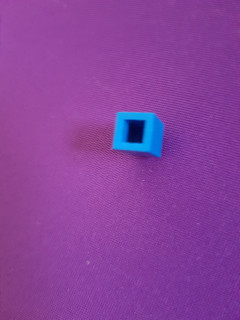1x1 blue: (111, 111, 165, 161)
